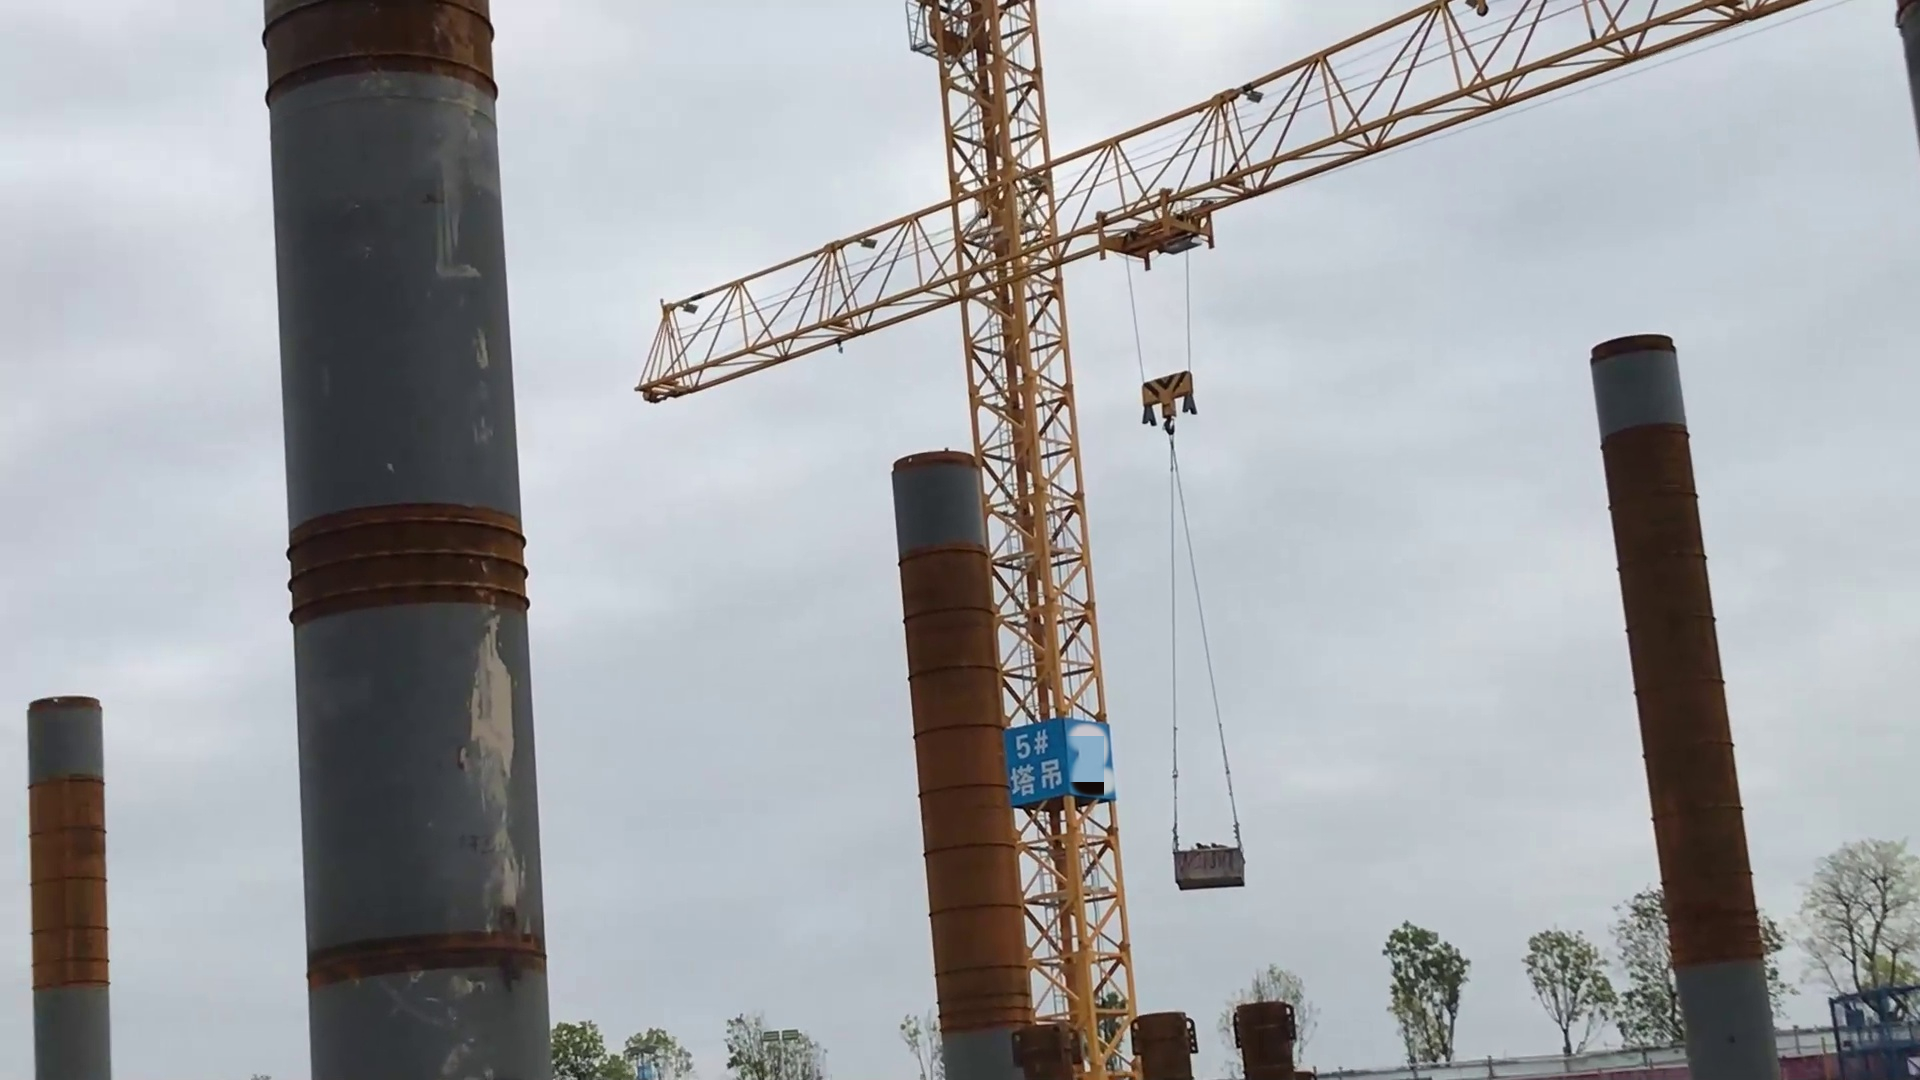hook: (1135, 368, 1204, 442)
hopper: (1166, 843, 1258, 899)
